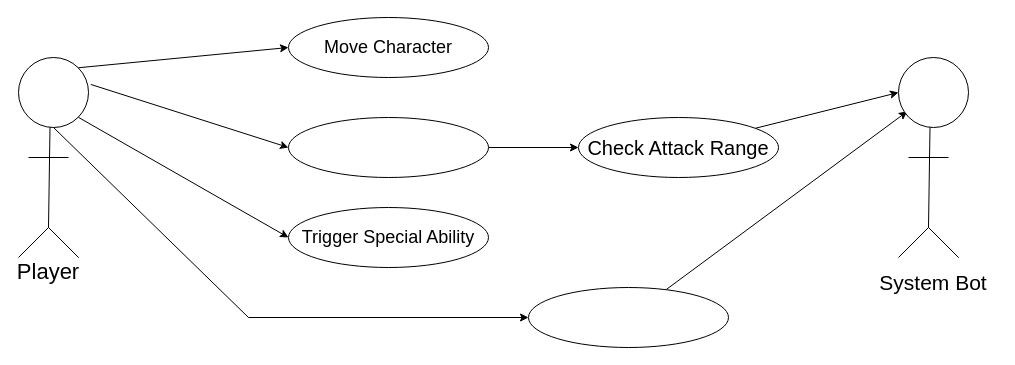
The diagram is 1015 pixels wide and 365 high, and some of its shapes have lost their labels. The centre of each missing label's shape, as x and y in pixels:
"Execute Melee Attack" belongs at point 388,147.
"Process Damage" belongs at point 628,317.
